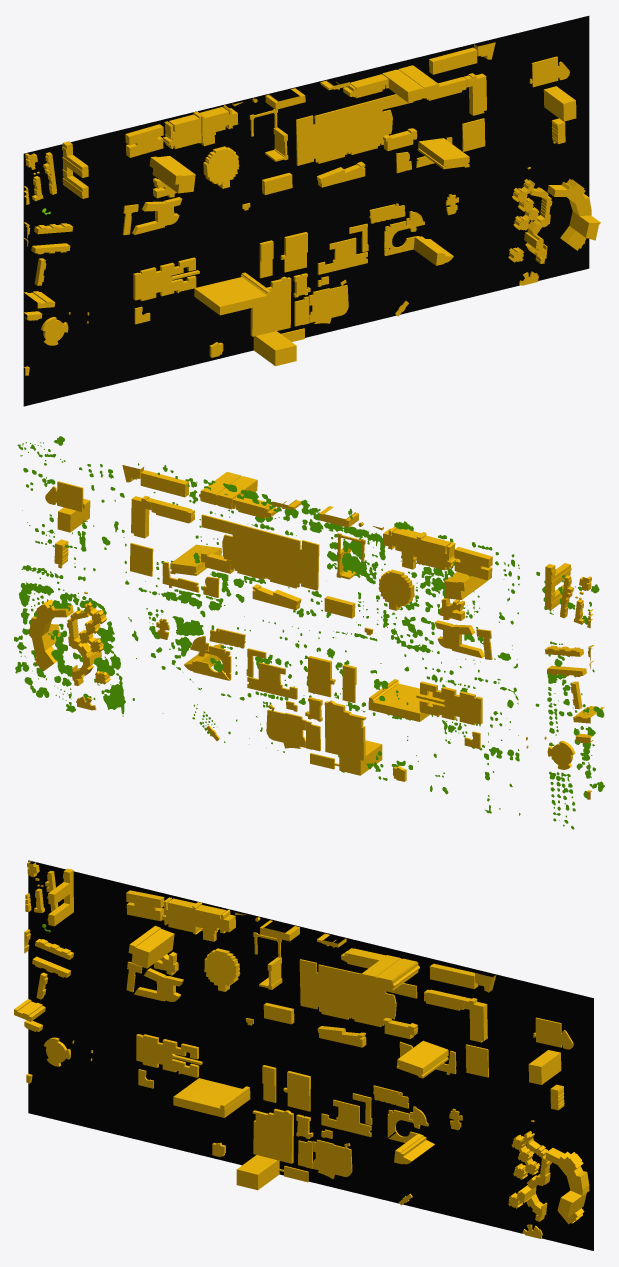
The model's file is existing_buildings_01.glb.
The picture shows the model from 3 angles, top to bottom: view 1: azimuth 30°, elevation 25°; view 2: azimuth 150°, elevation 25°; view 3: azimuth 330°, elevation 25°; orthographic projection.
Visible parts, largest first — view 1: Layer 04, existing_building - Copy, existing_building; view 2: existing_building - Copy, treesurface, existing_building; view 3: Layer 04, existing_building - Copy, existing_building.
Part boxes in pixels (x1,y1,x2,y2): Layer 04: (23, 16, 589, 406); existing_building - Copy: (23, 42, 591, 357); existing_building: (24, 65, 600, 375); existing_building - Copy: (29, 465, 594, 781); treesurface: (14, 436, 604, 829); existing_building: (30, 472, 604, 799); Layer 04: (28, 860, 593, 1250); existing_building - Copy: (24, 861, 589, 1238); existing_building: (14, 881, 586, 1218).
Size of the model in its own units: 1035 by 458 by 78.19.
